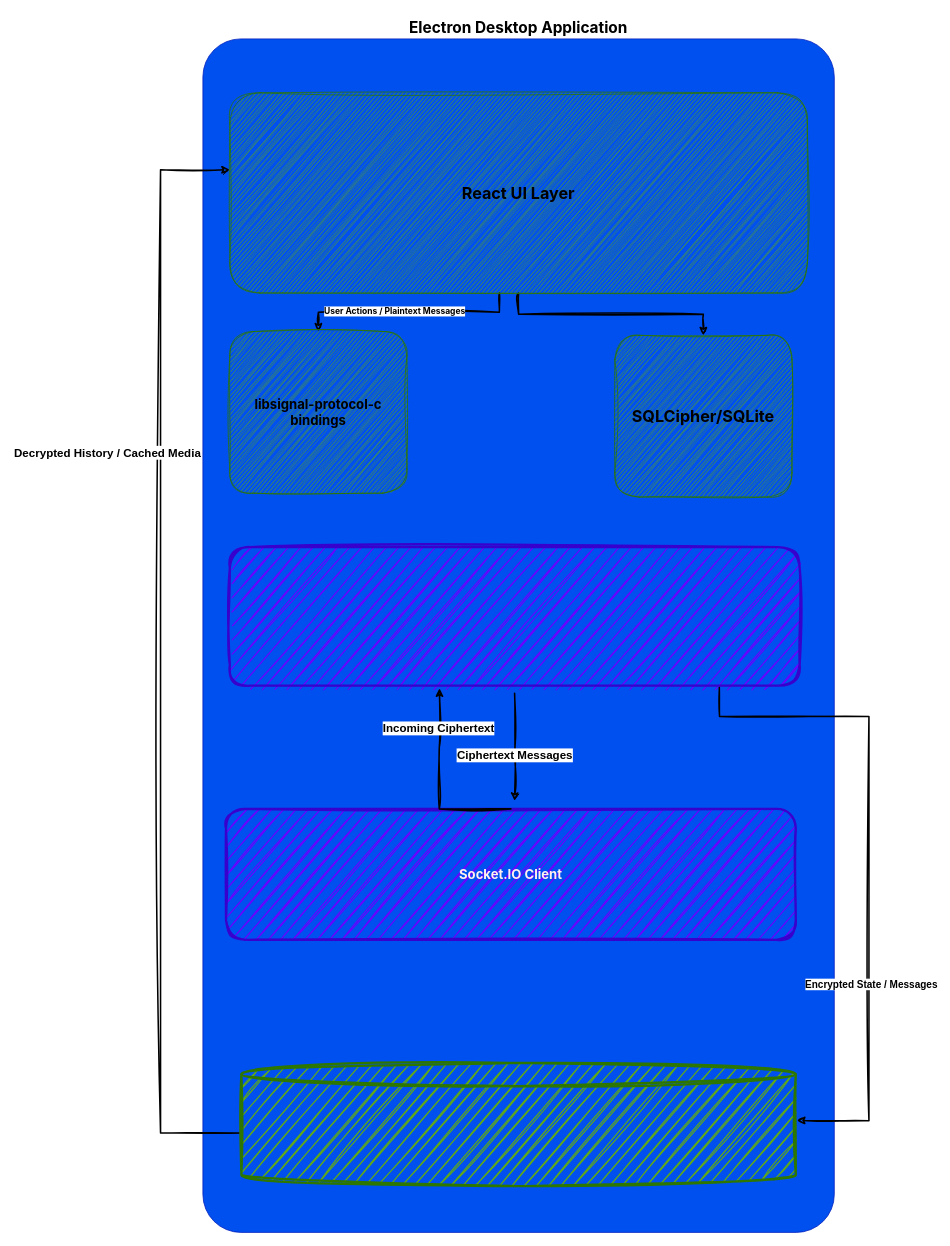
The diagram is 950 pixels wide and 1246 high, and some of its shapes have lost their labels. Here are the shapes that lost their labels. From the top down, the centre of each, then its label:
At (x=514, y=616): "libsignal-protocol-c (C implementation)".
At (x=518, y=1124): "SQLCipher / SQLite (Encrypted Local Storage)".
